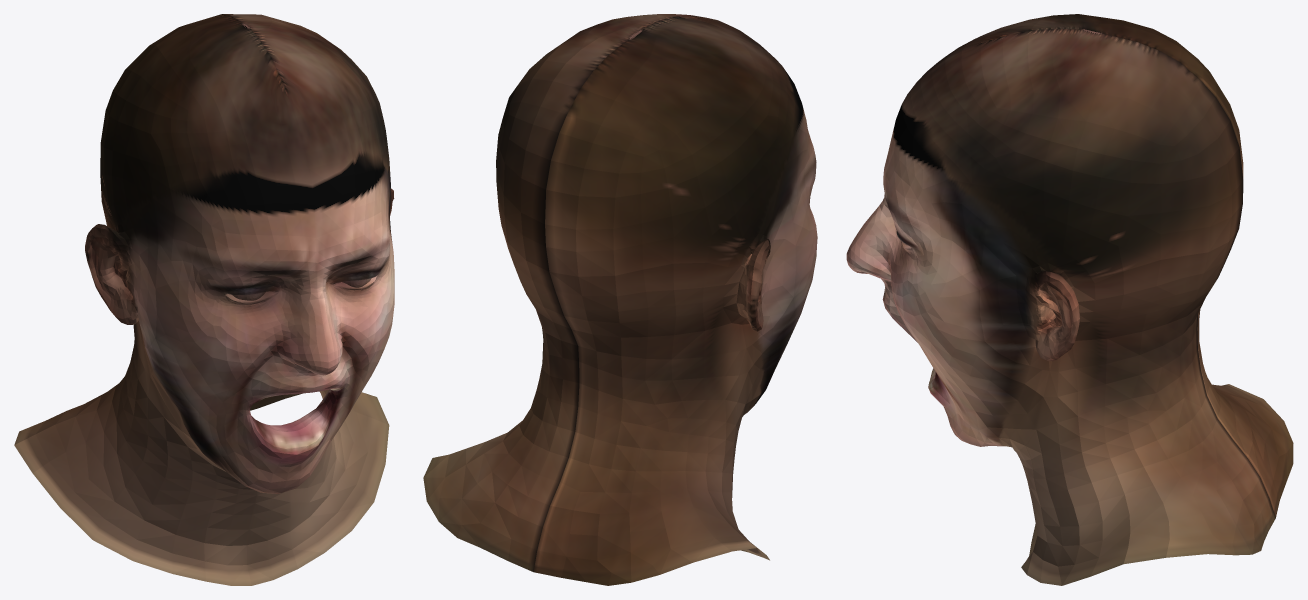
The model's file is face_video_frame0591.obj.
The picture shows the model from 3 angles, left to right: view 1: azimuth 30°, elevation 25°; view 2: azimuth 150°, elevation 25°; view 3: azimuth 270°, elevation 25°; orthographic projection.
Size of the model in its own units: 0.2171 by 0.3297 by 0.248.
1 material, 1 textured.
